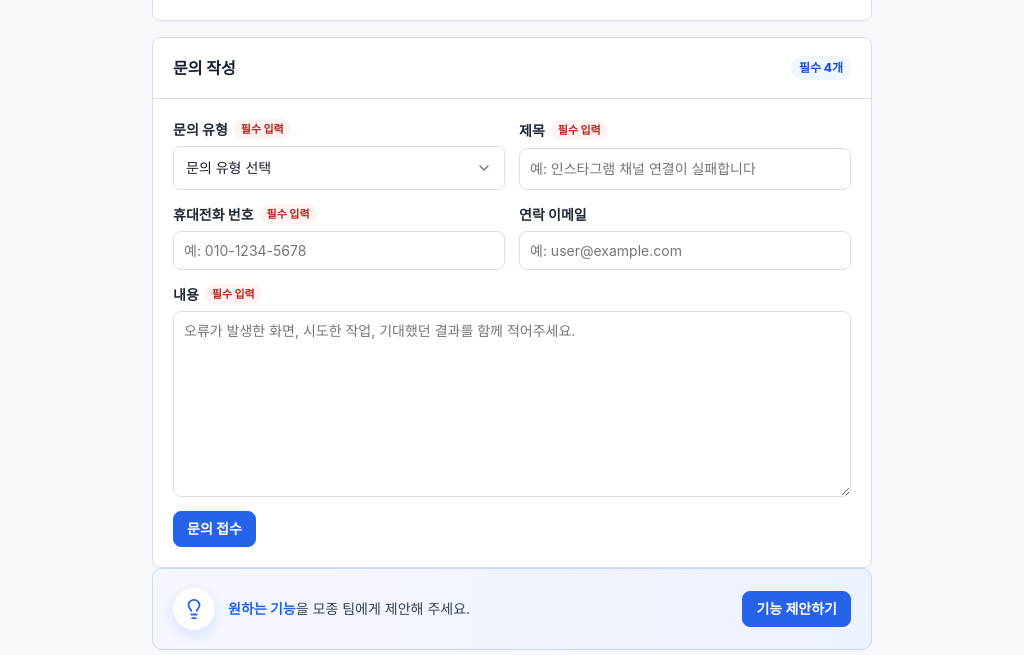
Test case: SupportPage › requires category, title, phone, and message before submitting
The width and height of the screenshot is (1024, 655).
(page scrolled)
Click the button "문의 접수".
click(214, 529)  # box [173, 511, 256, 547]
(page scrolled)
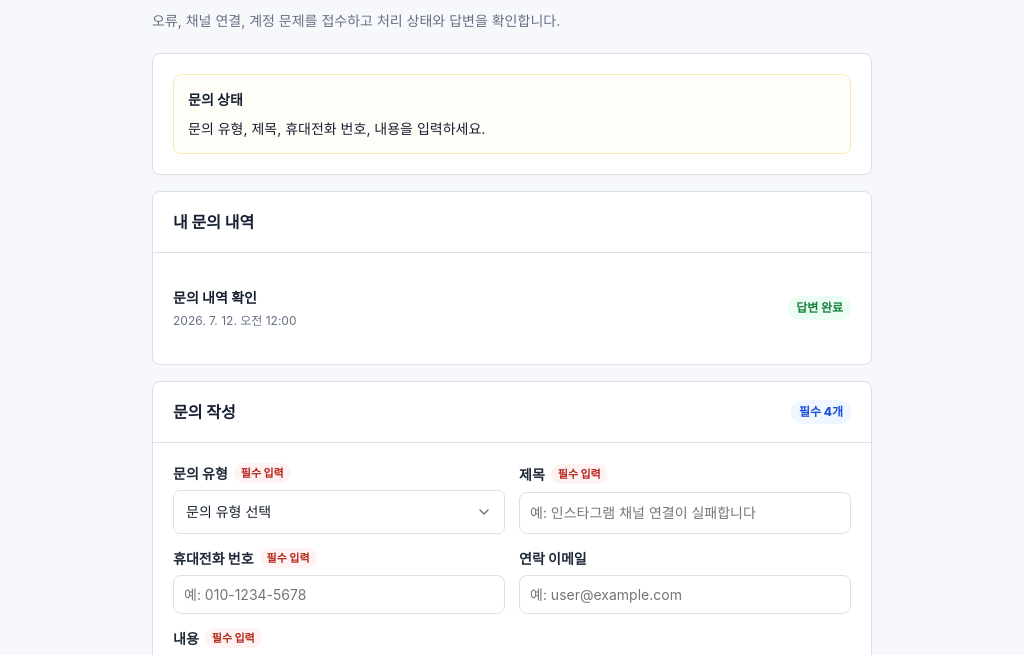
Check: the text "문의 유형, 제목, 휴대전화 번호, 내용을 입력하세요." is shown, box [188, 120, 485, 137]
